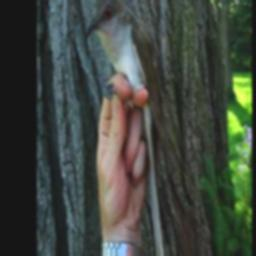Cuckoo: (82, 0, 173, 256)
